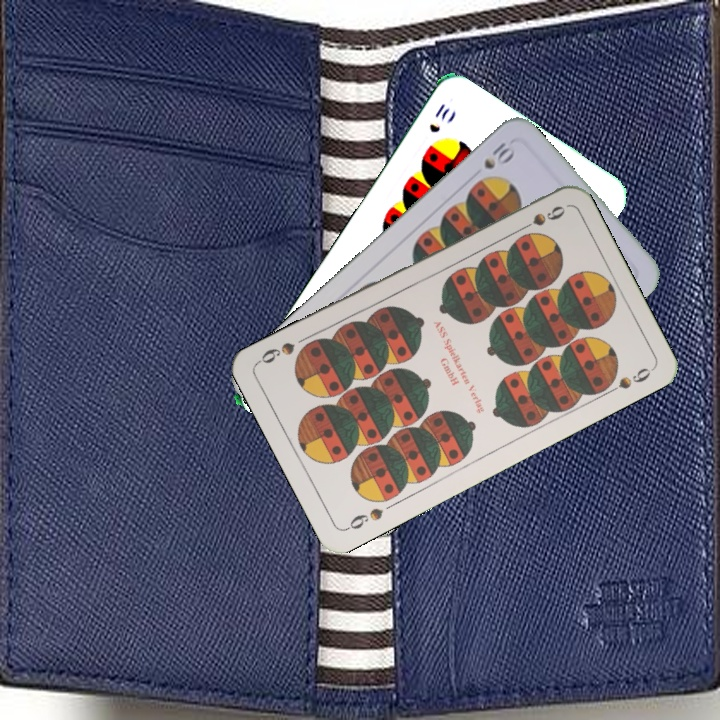S10: (479, 138, 518, 172), (425, 99, 453, 136)
S9: (513, 201, 568, 235), (341, 504, 386, 534)
